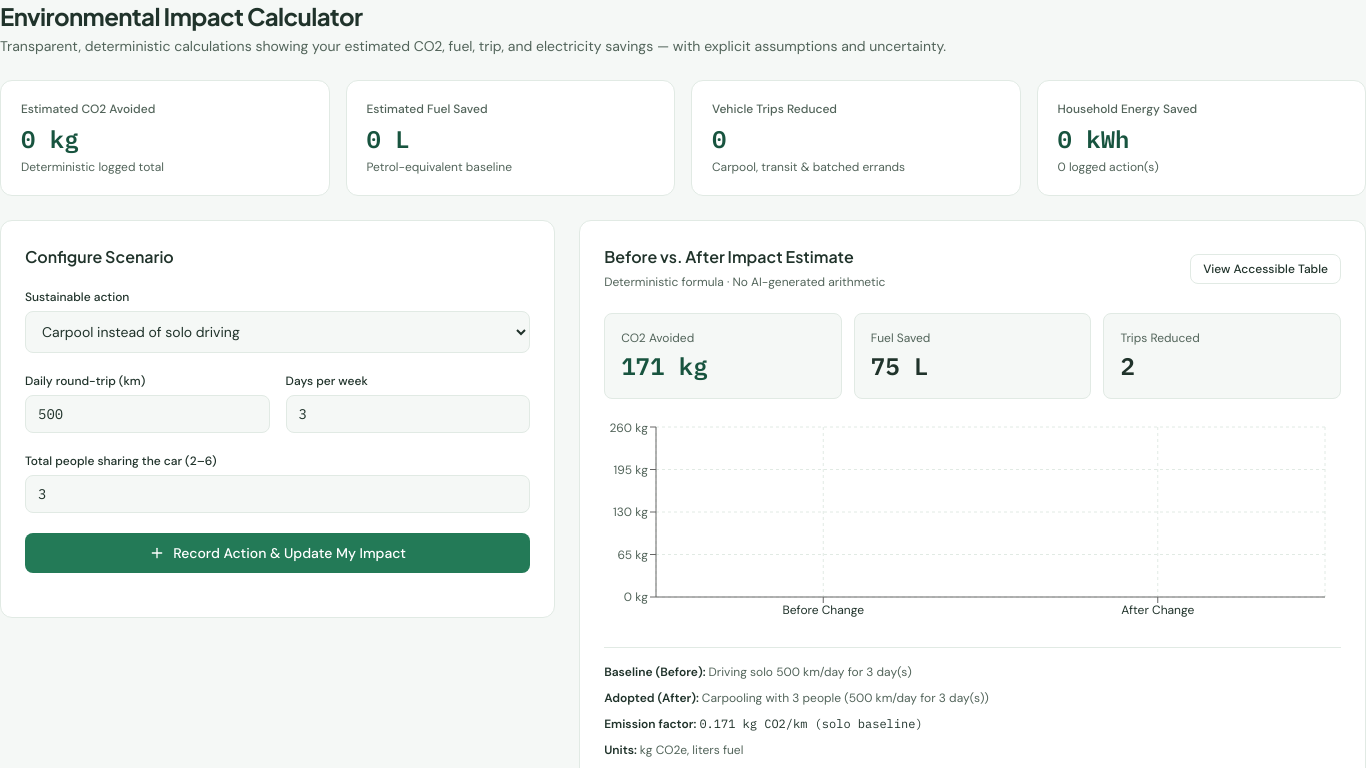
Test: Page-level behavioral, accessibility, state, and error-boundary tests › ImpactCalculatorPage clamps upper bounds, logs and removes actions, renders accessible table captions/scopes, and supports qualitative actions
The image size is (1366, 768).
Earlier steps of the test are not shown.
Check: the number field labelled "Daily round-trip (km)" holds "500", box [25,395,270,433]
Click the button "View Accessible Table".
click(1266, 269)  # box [1190,254,1341,284]
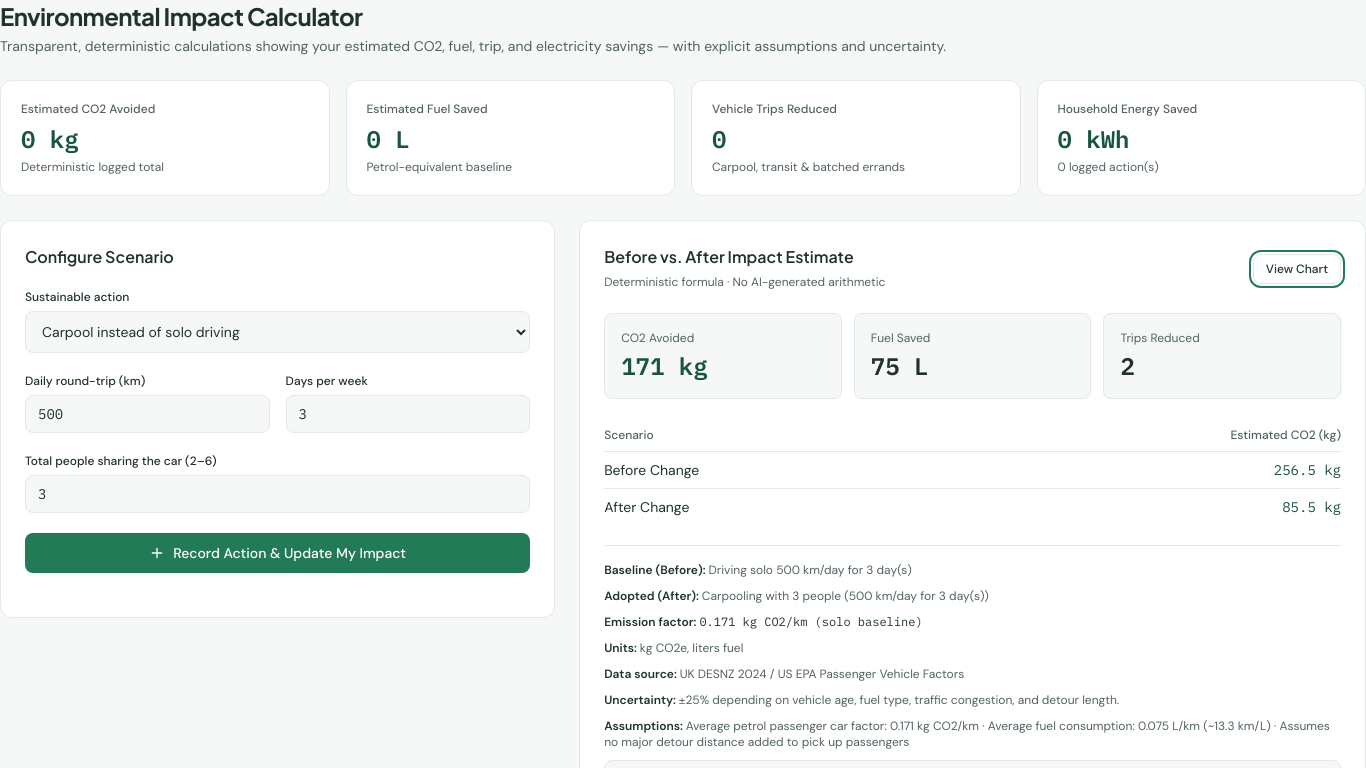
Log action updates table and live status region
Click the button "Record Action & Update My Impact".
click(278, 553)  # box [25,533,530,573]
(page scrolled)
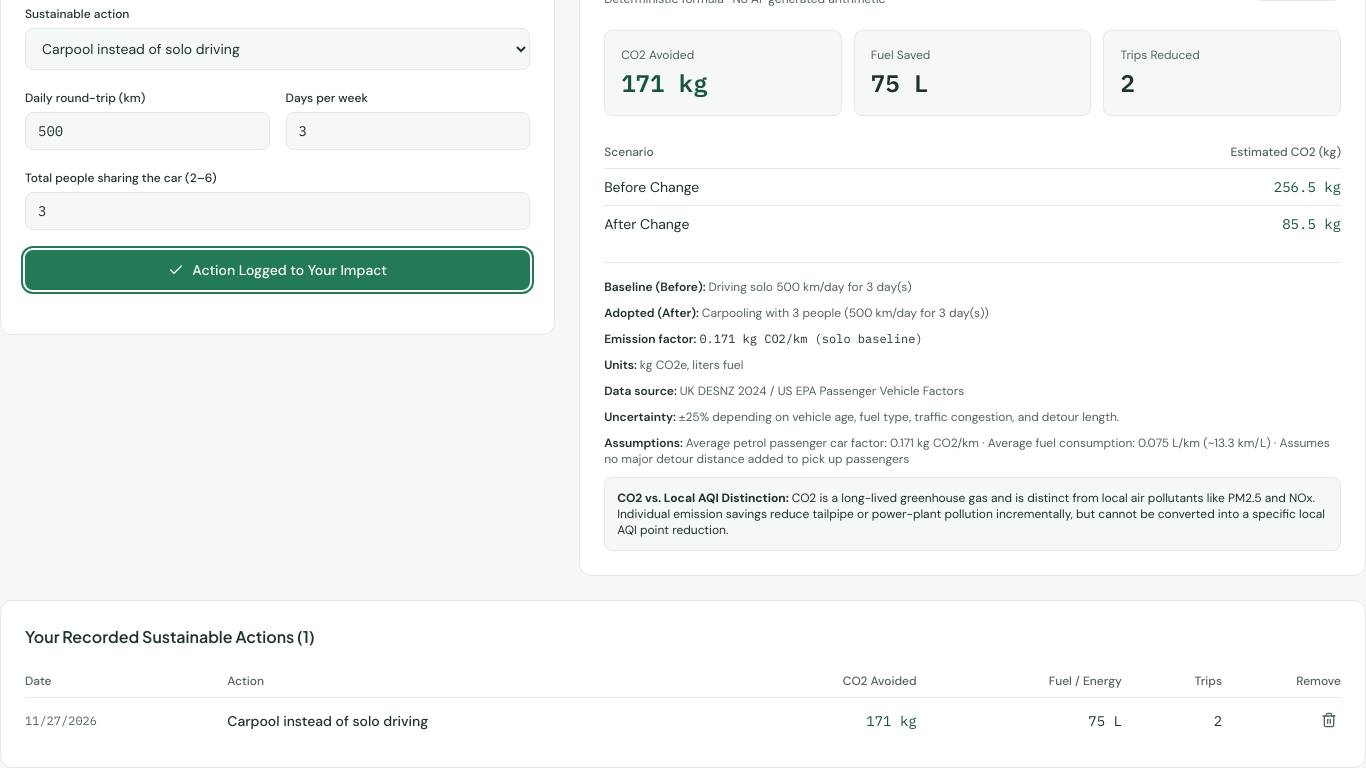
Check: the text "Carpool instead of solo driving" is shown, box [227,698,726,743]
Remove logged action
Click the button named "delete logged action carpool".
click(1329, 720)  # box [1317,708,1341,732]
(page scrolled)
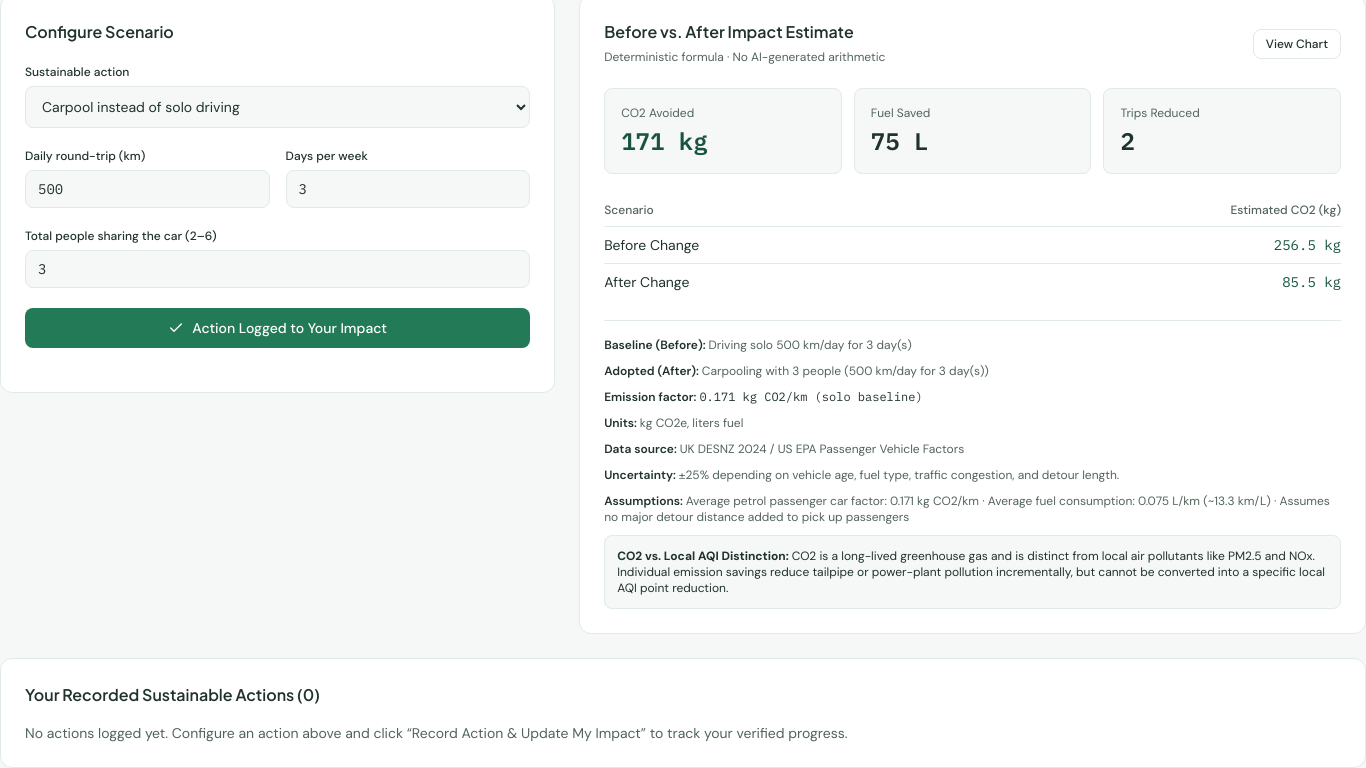
Check: the text "No actions logged yet" is shown, box [25,724,848,742]
Switch to electricity reduction and verify upper-bound clamping (max 5000)
Select "Reduce household electricity usage" in the dropdown labelled "Sustainable action" at (278,107), box [25,86,530,128]
(page scrolled)
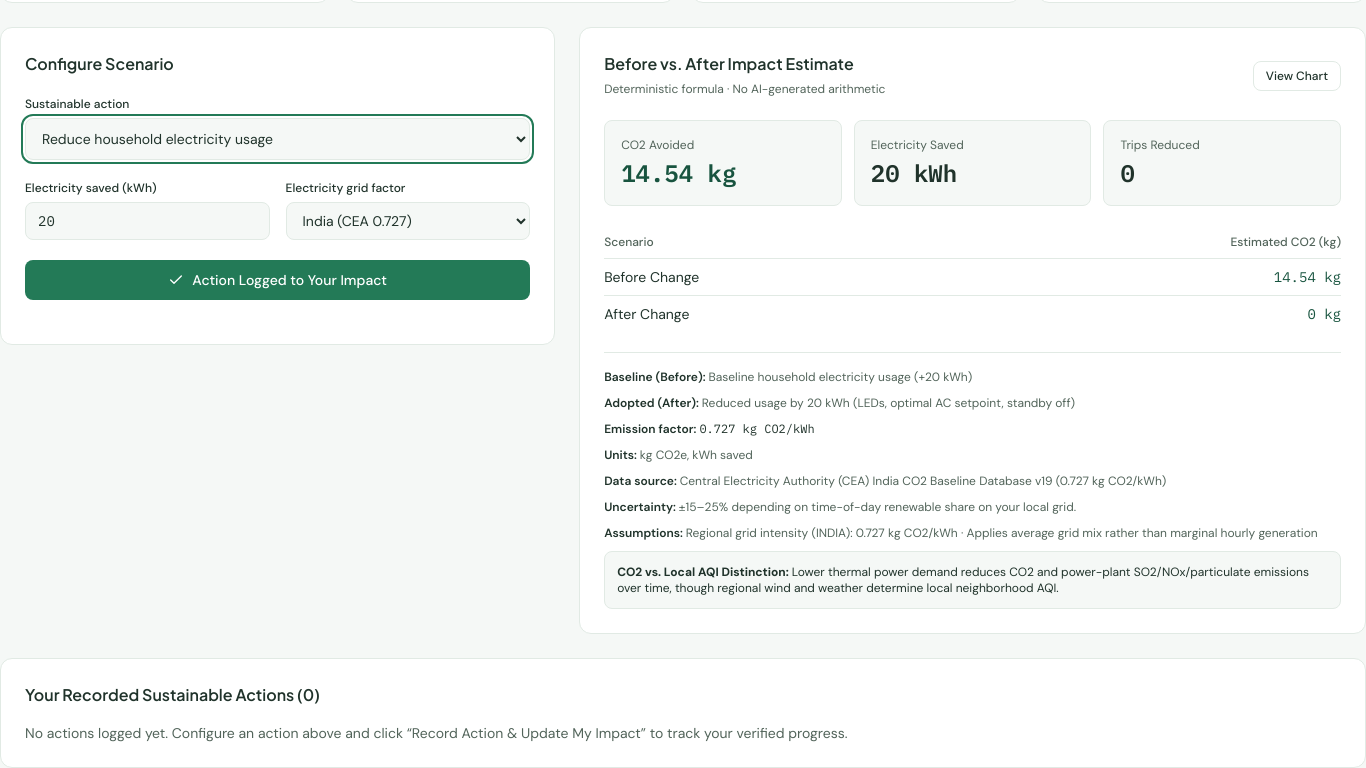
Replace the text in the number field labelled "Electricity saved (kWh)" with "99999" at (147,221), box [25,202,270,240]
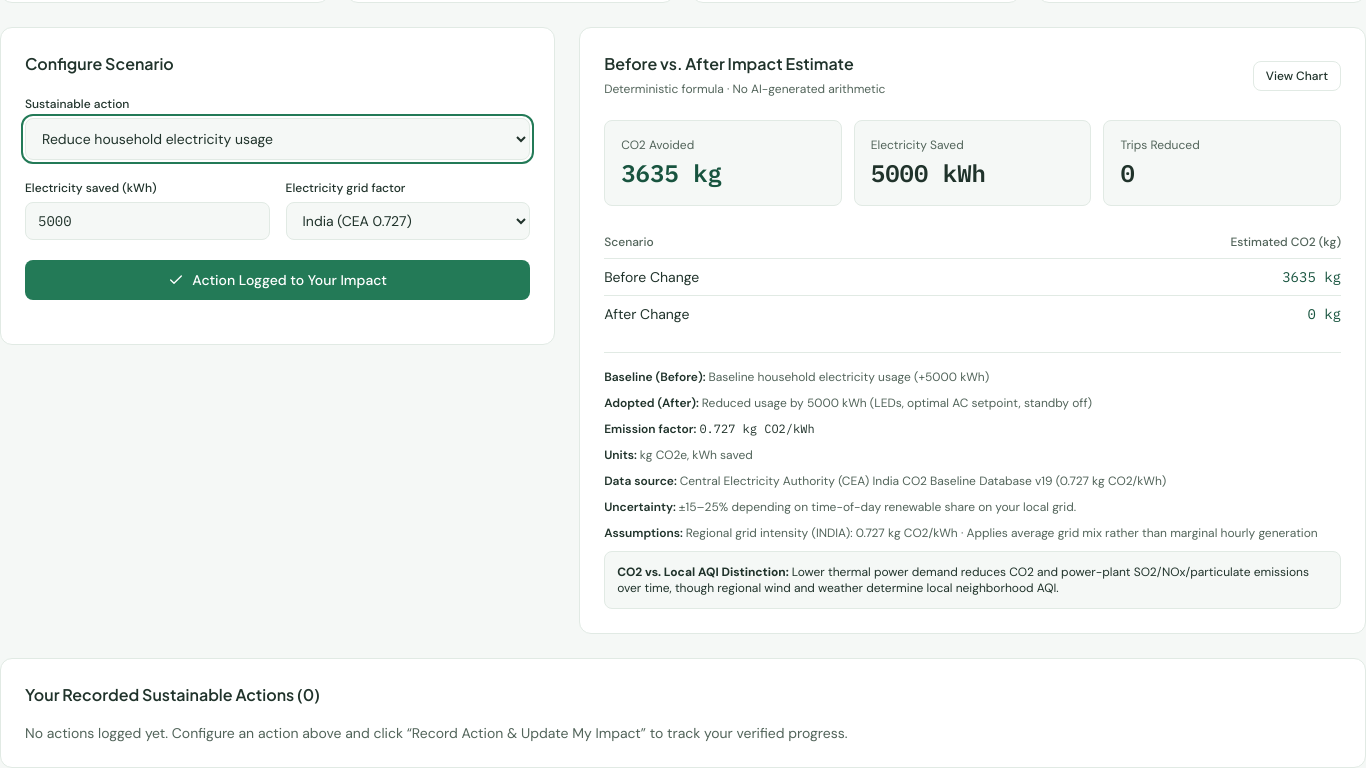
Check: the number field labelled "Electricity saved (kWh)" holds "5000", box [25,202,270,240]
Switch to qualitative action (no fabricated numeric factor)
Select "Avoid open leaf or waste burning" in the dropdown labelled "Sustainable action" at (278,139), box [25,118,530,160]
(page scrolled)
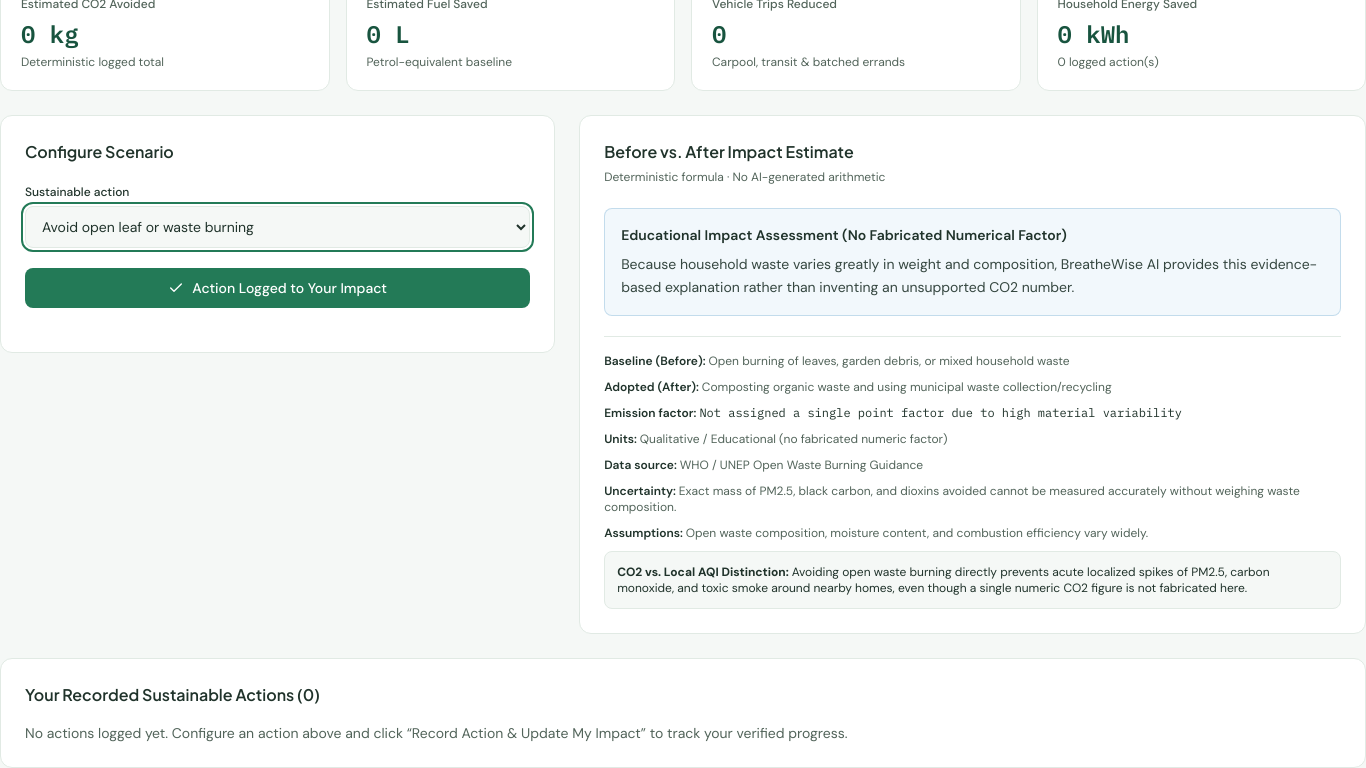
Check: the text "Educational Impact Assessment (No Fabricated Numerical Factor)" is shown, box [621,226,1067,244]
